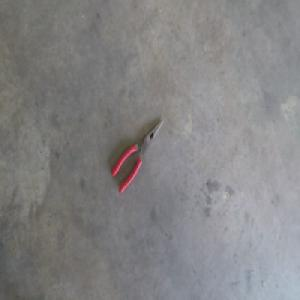Pliers: (112, 116, 164, 193)
